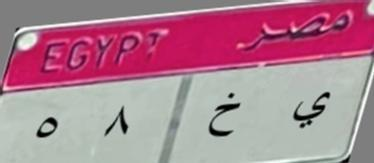5: (22, 108, 66, 148)
8: (99, 100, 138, 140)
khaa: (203, 90, 245, 148)
yaa: (290, 81, 330, 134)
